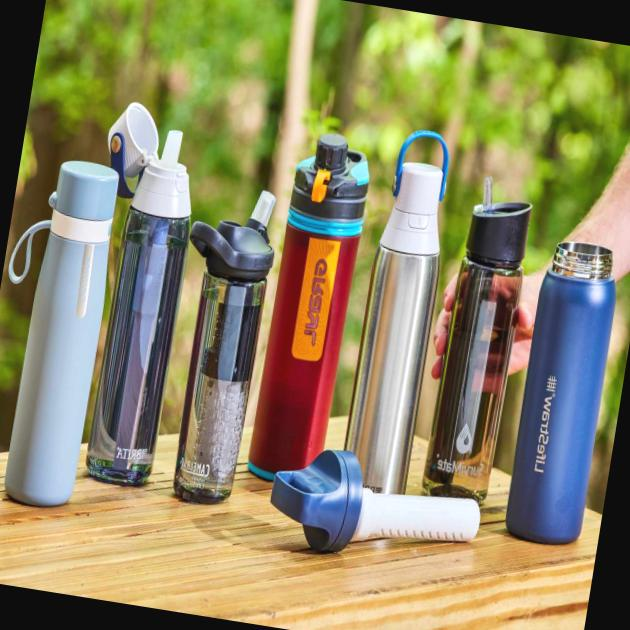waterbottle: (228, 138, 380, 510), (494, 224, 625, 572), (78, 143, 196, 497), (340, 140, 460, 485), (0, 176, 109, 534), (412, 195, 528, 514)
